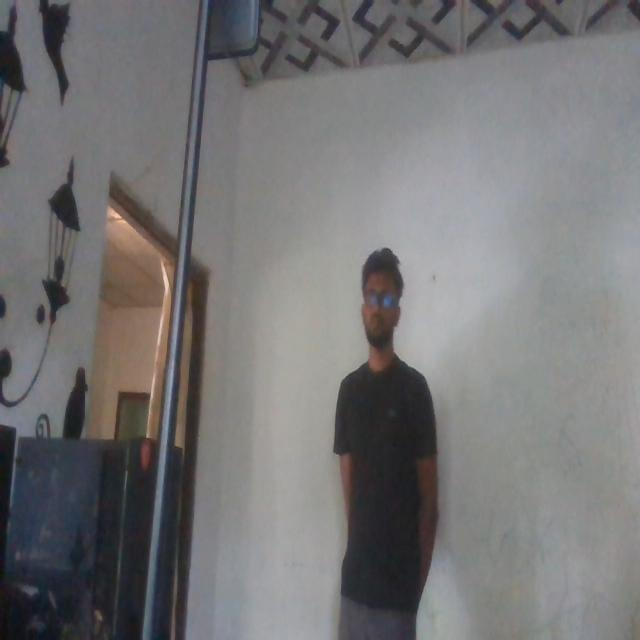Person: (334, 246, 452, 640)
